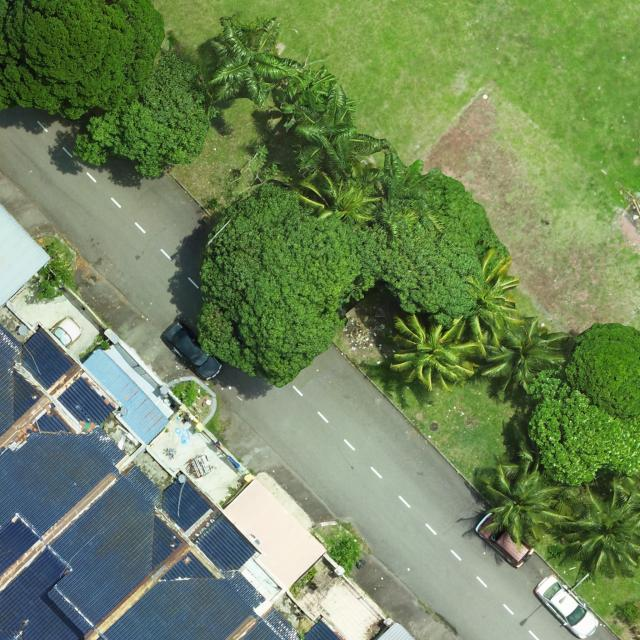banana_tree2: (286, 66, 336, 106)
tree: (196, 186, 383, 388), (375, 173, 508, 329), (0, 0, 166, 123), (71, 51, 212, 181), (527, 370, 640, 487), (478, 463, 582, 553), (206, 14, 303, 107), (294, 84, 388, 175), (558, 477, 640, 578), (481, 315, 574, 401), (388, 312, 483, 392), (566, 322, 640, 418), (456, 250, 524, 342), (378, 145, 443, 239), (300, 169, 384, 226)
